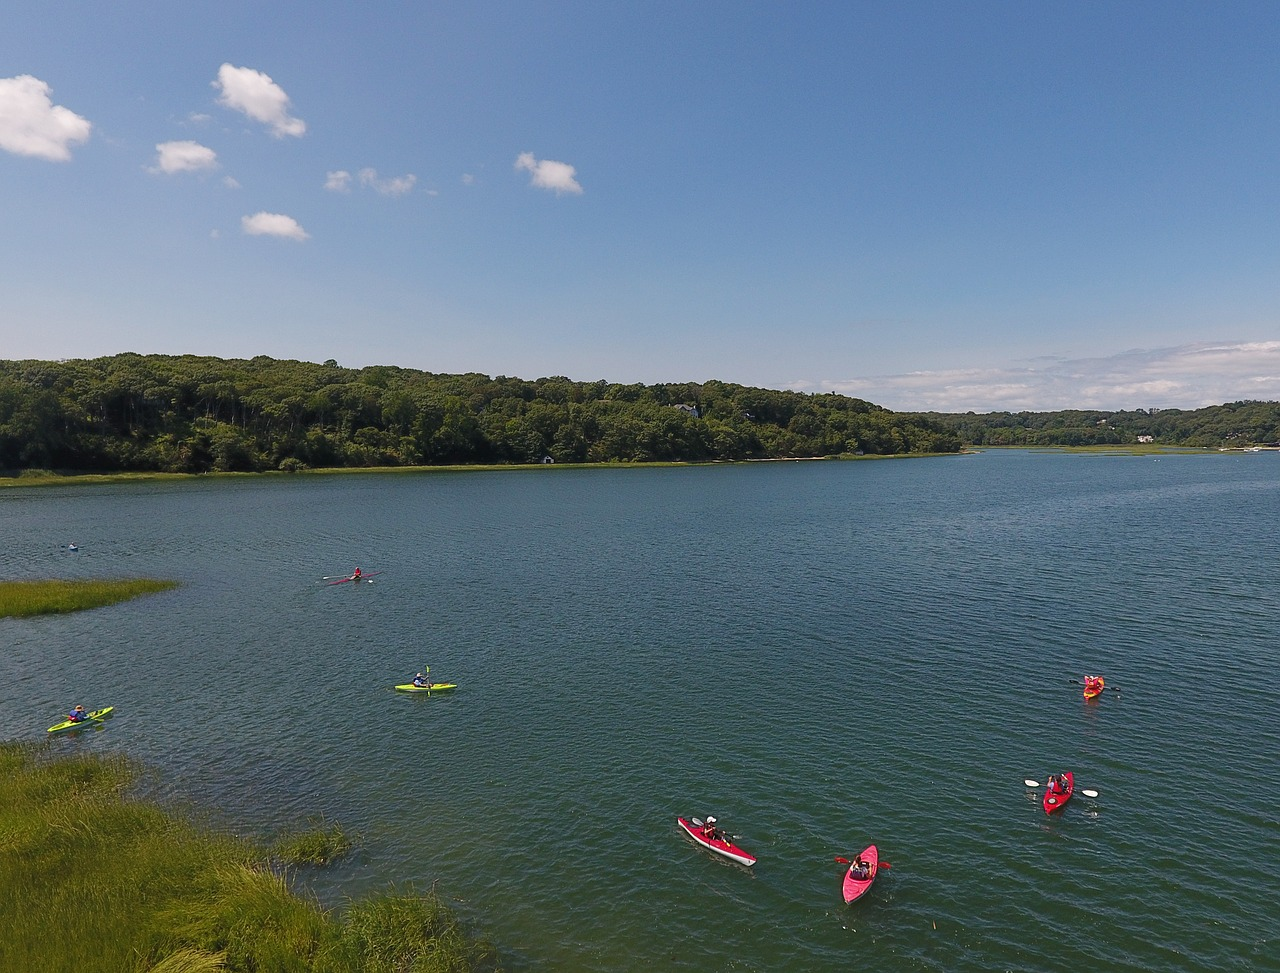kayak: (675, 810, 758, 869), (839, 840, 881, 903), (45, 703, 117, 737), (322, 562, 384, 592), (1040, 769, 1076, 816), (392, 671, 457, 694), (1080, 674, 1106, 699)
